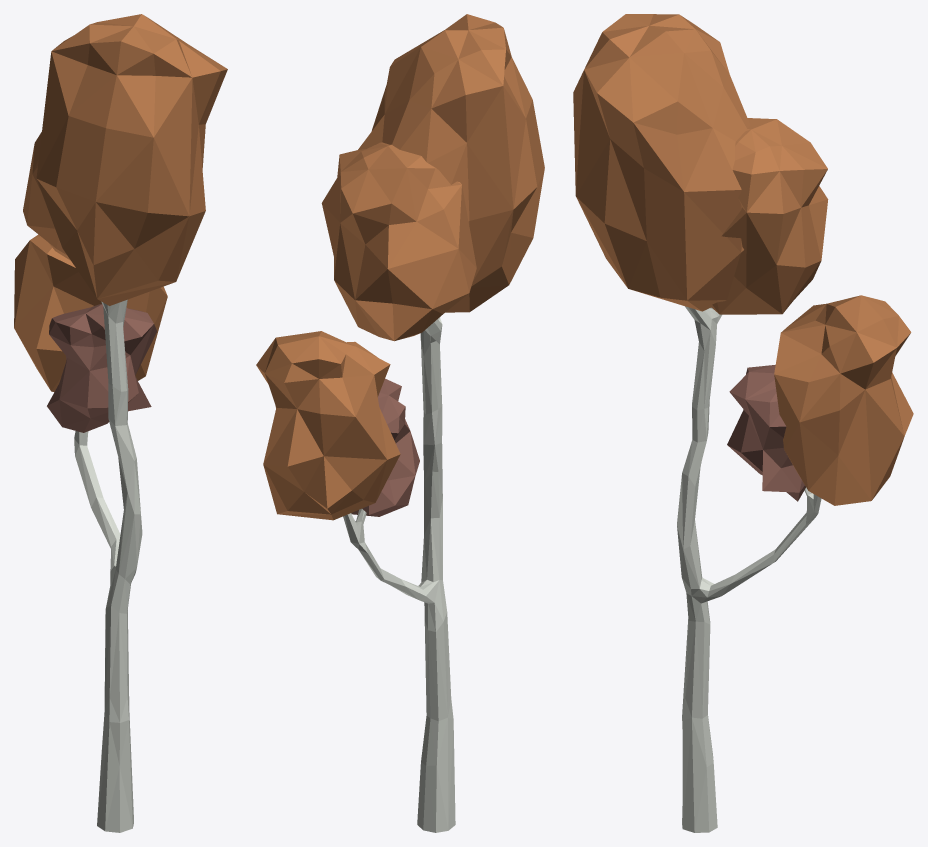
The model's file is BirchTree_Autumn_5.lod1.glb.
The picture shows the model from 3 angles, left to right: view 1: azimuth 30°, elevation 25°; view 2: azimuth 150°, elevation 25°; view 3: azimuth 270°, elevation 25°; orthographic projection. The views are drawn at different scales.
Visible parts, largest first — view 1: BirchTree_Autumn_5; view 2: BirchTree_Autumn_5; view 3: BirchTree_Autumn_5.
Part boxes in pixels (left/top/right/bottom): BirchTree_Autumn_5: left=14, top=14, right=227, bottom=832; BirchTree_Autumn_5: left=256, top=14, right=544, bottom=832; BirchTree_Autumn_5: left=573, top=14, right=913, bottom=832.
Size of the model in its own units: 1.19 by 5 by 1.93.
